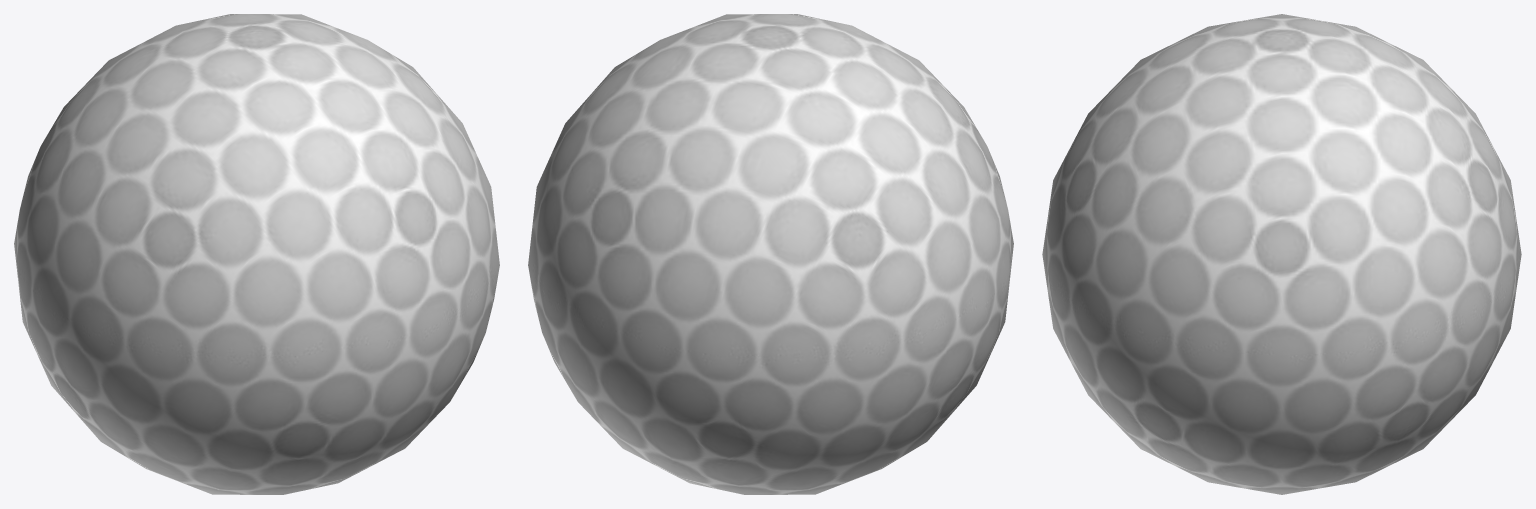
File: Golfball.glb
3 views of the same model, side by side, from view 1: azimuth 30°, elevation 25°; view 2: azimuth 150°, elevation 25°; view 3: azimuth 270°, elevation 25° (orthographic).
Parts seen in each view (by area): view 1: golfball_baked.jpg__; view 2: golfball_baked.jpg__; view 3: golfball_baked.jpg__.
Boxes of the visible parts, x1,y1,x2,y2 form: golfball_baked.jpg__: [14, 14, 499, 494]; golfball_baked.jpg__: [528, 14, 1013, 494]; golfball_baked.jpg__: [1042, 14, 1521, 494].
Size of the model in its own units: 1.86 by 1.85 by 1.85.
1 material, 1 textured.
